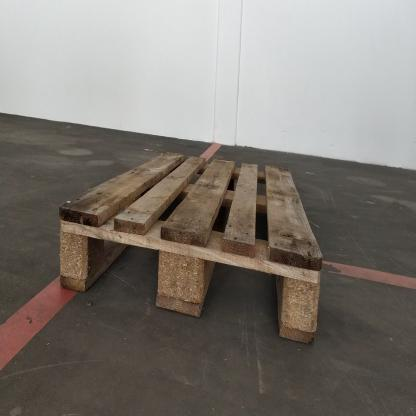BoxFace: (56, 147, 329, 348)
